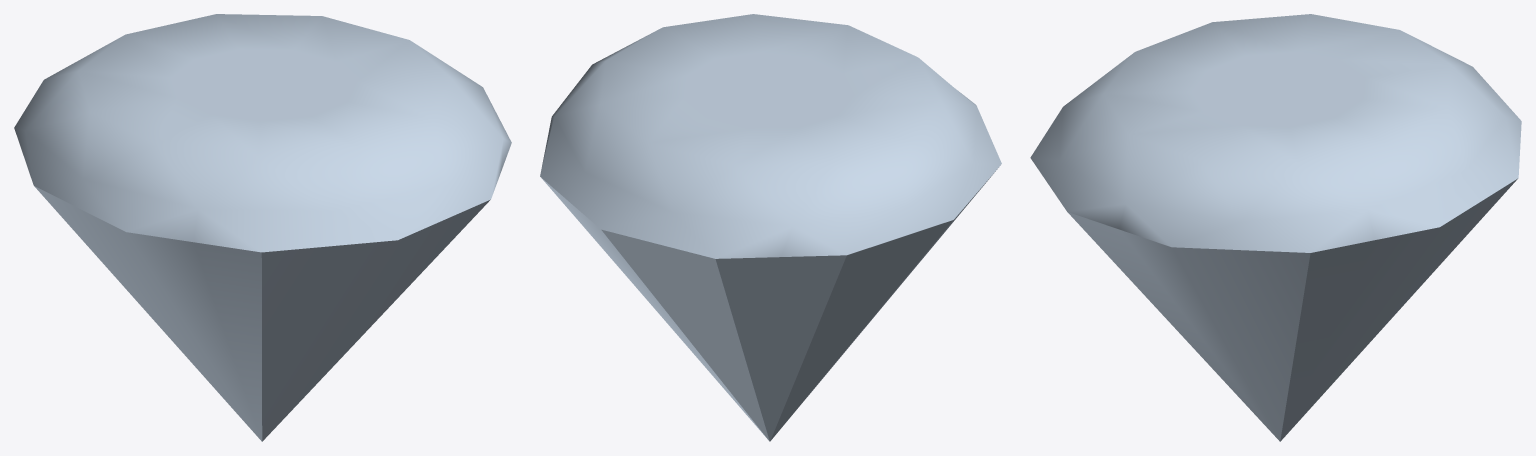
Rendered from Gold5.fbx.
The picture shows the model from 3 angles, left to right: view 1: azimuth 30°, elevation 25°; view 2: azimuth 150°, elevation 25°; view 3: azimuth 270°, elevation 25°; orthographic projection.
Visible parts, largest first — view 1: Diamond3; view 2: Diamond3; view 3: Diamond3.
Boxes of the visible parts, box(x1,y1,x2,y2) form: Diamond3: box(14, 14, 511, 441); Diamond3: box(540, 14, 1001, 441); Diamond3: box(1030, 14, 1521, 441).
Bounding box in the file's own units: 0.2297 × 0.1888 × 0.2385.
